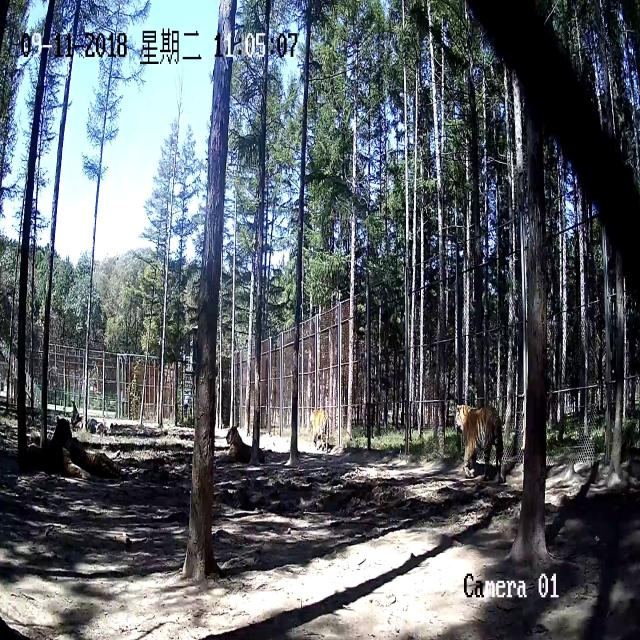Tiger: (454, 393, 509, 494), (11, 416, 76, 486), (222, 423, 284, 465), (78, 442, 142, 478), (309, 404, 336, 455)
